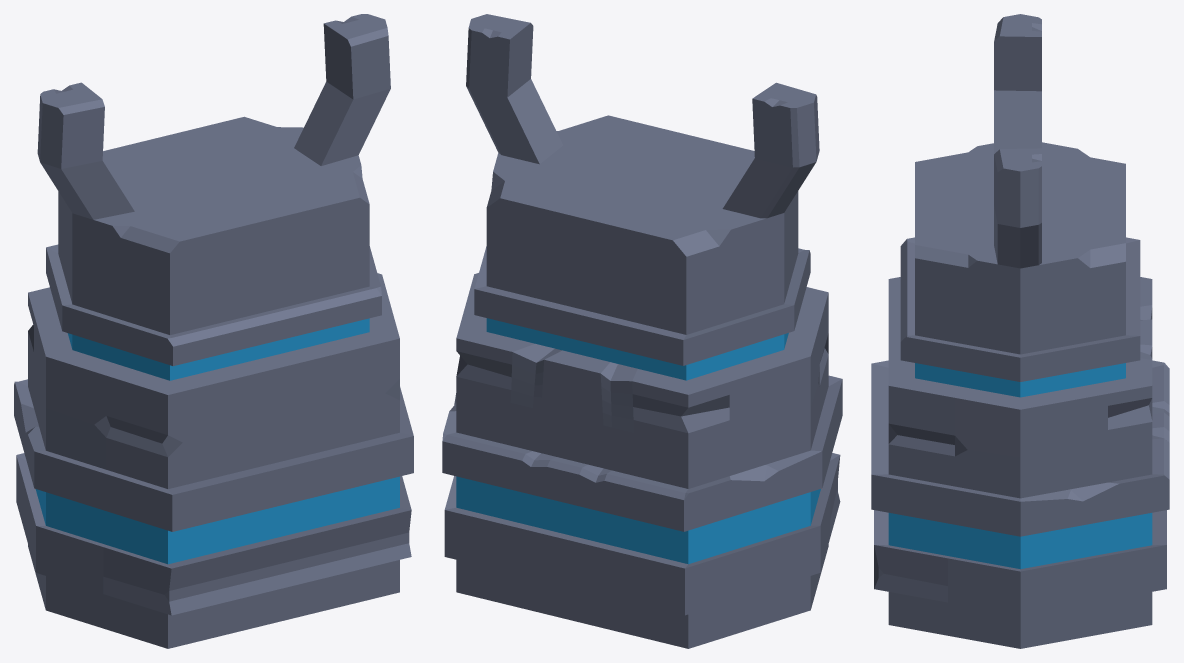
The model's file is TurretBase.fbx.
The picture shows the model from 3 angles, left to right: view 1: azimuth 30°, elevation 25°; view 2: azimuth 150°, elevation 25°; view 3: azimuth 270°, elevation 25°; orthographic projection. The views are drawn at different scales.
Visible parts, largest first — view 1: turret; view 2: turret; view 3: turret.
Boxes of the visible parts, x1,y1,x2,y2 form: turret: [14, 14, 413, 648]; turret: [442, 14, 842, 648]; turret: [871, 14, 1169, 648].
Bounding box in the file's own units: 173 × 233 × 132.
